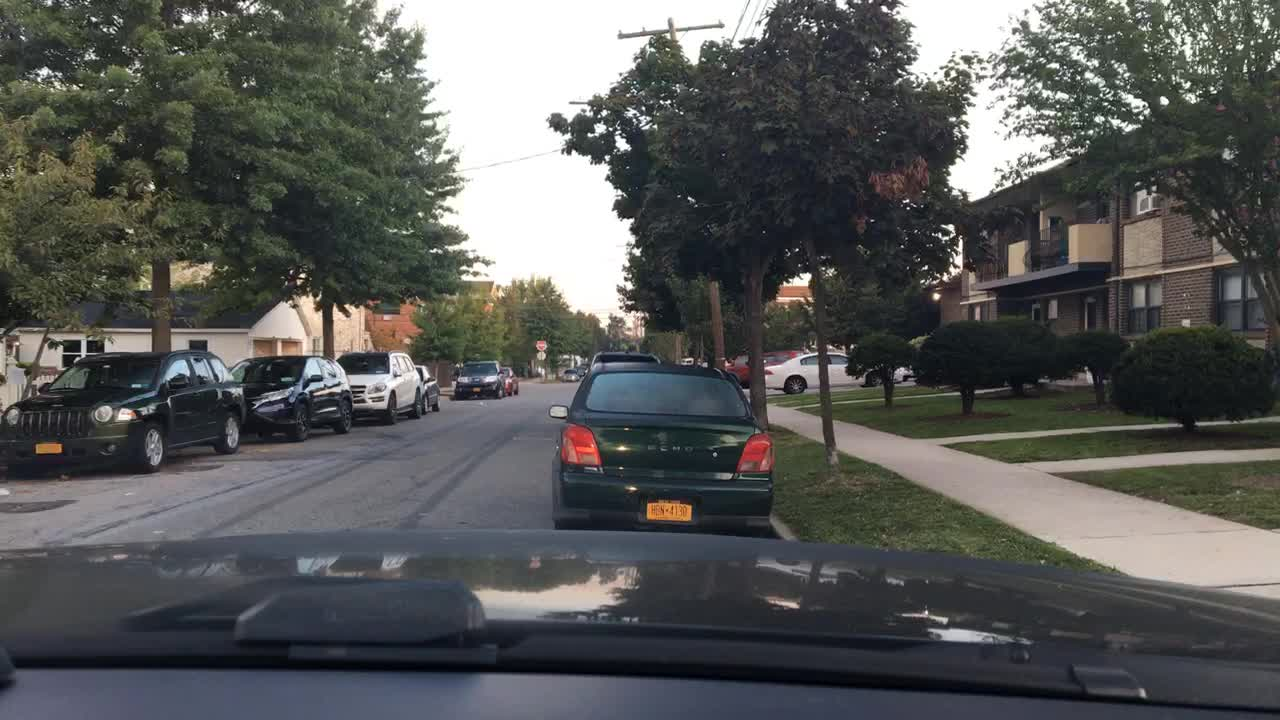car: (547, 363, 776, 528), (0, 346, 247, 479), (225, 352, 353, 441), (750, 346, 912, 392), (336, 347, 424, 424), (720, 348, 797, 385), (451, 360, 506, 398), (410, 363, 442, 409), (592, 350, 661, 368), (499, 364, 520, 395), (678, 354, 701, 368), (560, 367, 580, 383), (577, 364, 587, 376)
traffic sign: (532, 337, 549, 351), (534, 350, 547, 360)
